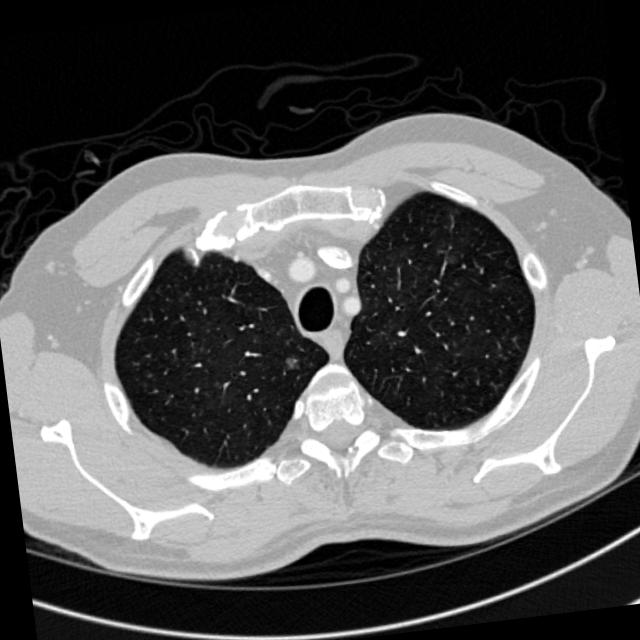nodule: (274, 348, 306, 378)
